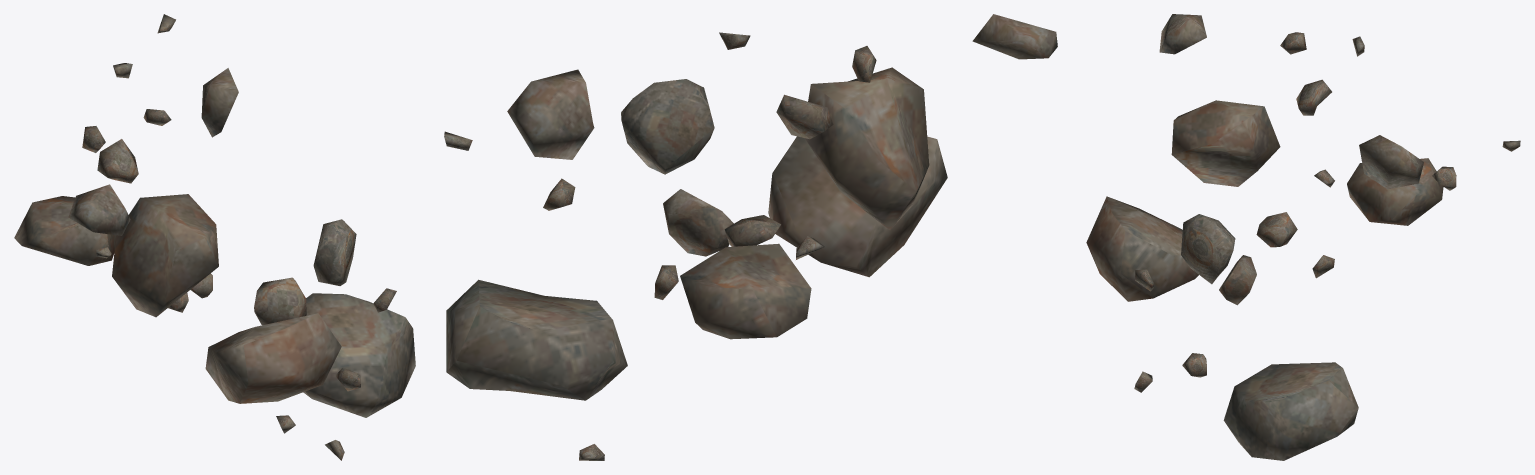
File: bg_rad_kamen_rockdeco01a_sm.obj
3 renders of one model, left to right at view 1: azimuth 30°, elevation 25°; view 2: azimuth 150°, elevation 25°; view 3: azimuth 270°, elevation 25°, orthographic. The views are drawn at different scales.
Parts seen in each view (by area): view 1: bg_rad_kamen_rockdeco01a_sm_0; view 2: bg_rad_kamen_rockdeco01a_sm_0; view 3: bg_rad_kamen_rockdeco01a_sm_0.
Part boxes in pixels (<box>): bg_rad_kamen_rockdeco01a_sm_0: <box>14,14,415,460</box>; bg_rad_kamen_rockdeco01a_sm_0: <box>444,14,1057,460</box>; bg_rad_kamen_rockdeco01a_sm_0: <box>1086,14,1520,460</box>.
Size of the model in its own units: 0.7733 by 0.7007 by 0.7934.
1 material, 1 textured.
